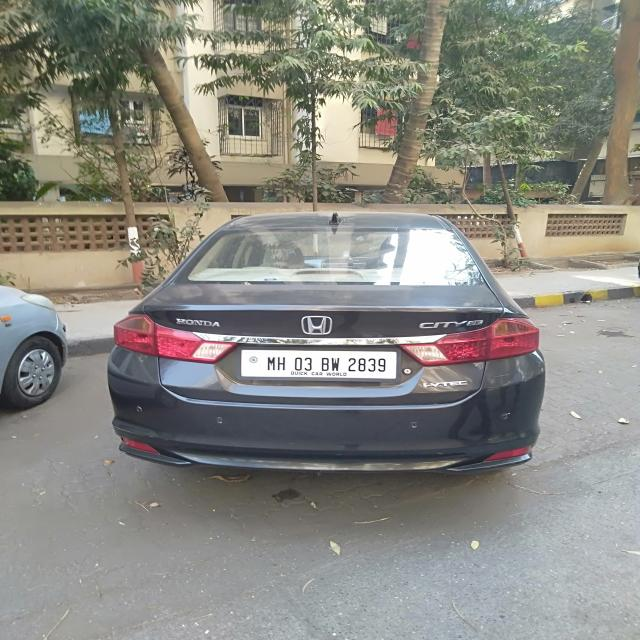Number-Plate: (244, 350, 394, 380)
